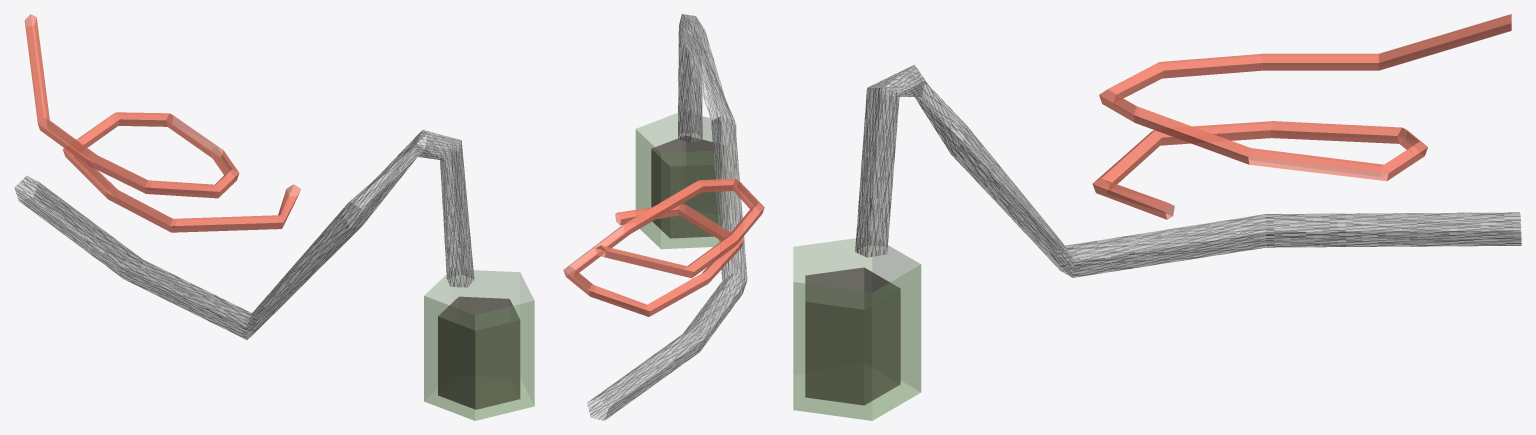
The model's file is geet_tubes.glb.
3 views of the same model, side by side, from view 1: azimuth 30°, elevation 25°; view 2: azimuth 150°, elevation 25°; view 3: azimuth 270°, elevation 25° (orthographic). The views are drawn at different scales.
Visible parts, largest first — view 1: geet tubes; view 2: geet tubes; view 3: geet tubes.
Part boxes in pixels (<box>): geet tubes: <box>14,14,534,420</box>; geet tubes: <box>563,14,764,420</box>; geet tubes: <box>793,14,1521,420</box>.
Size of the model in its own units: 14.81 by 13.21 by 28.23.
1 material, 1 textured.
